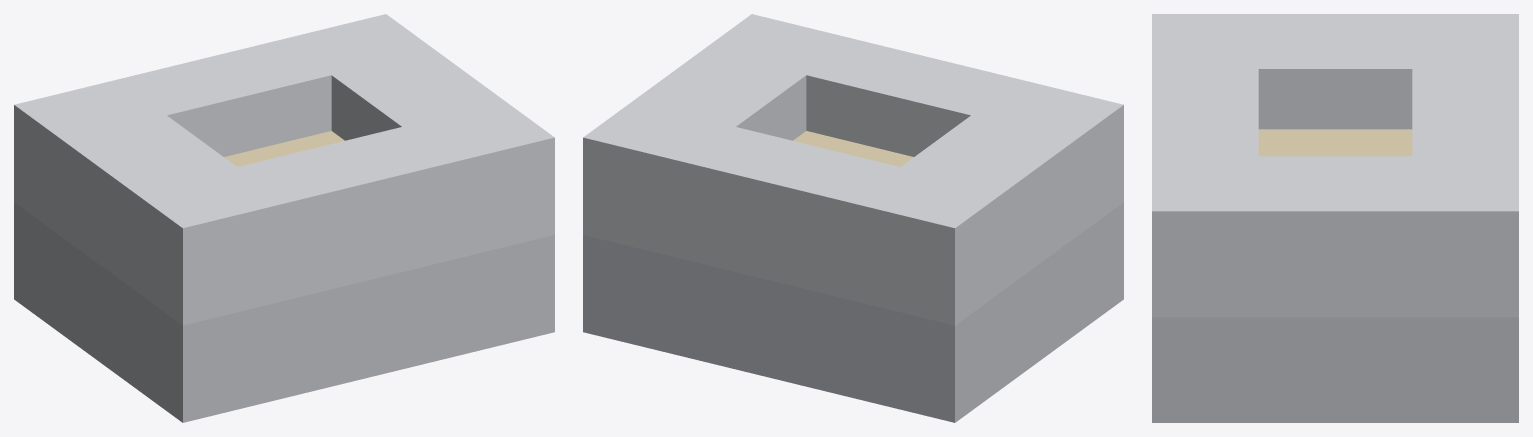
The model's file is corebox.glb.
3 views of the same model, side by side, from view 1: azimuth 30°, elevation 25°; view 2: azimuth 150°, elevation 25°; view 3: azimuth 270°, elevation 25° (orthographic). The views are drawn at different scales.
Parts seen in each view (by area): view 1: upper, lower, core; view 2: upper, lower, core; view 3: upper, lower, core.
Boxes of the visible parts, left/top/right/bottom form: upper: left=14, top=14, right=554, bottom=325; lower: left=14, top=202, right=554, bottom=422; core: left=224, top=131, right=344, bottom=166; upper: left=583, top=14, right=1123, bottom=325; lower: left=583, top=202, right=1123, bottom=422; core: left=793, top=131, right=913, bottom=166; upper: left=1152, top=14, right=1518, bottom=317; lower: left=1152, top=317, right=1518, bottom=422; core: left=1258, top=129, right=1412, bottom=156.
Size of the model in its own units: 1.4 by 0.7 by 1.1.
